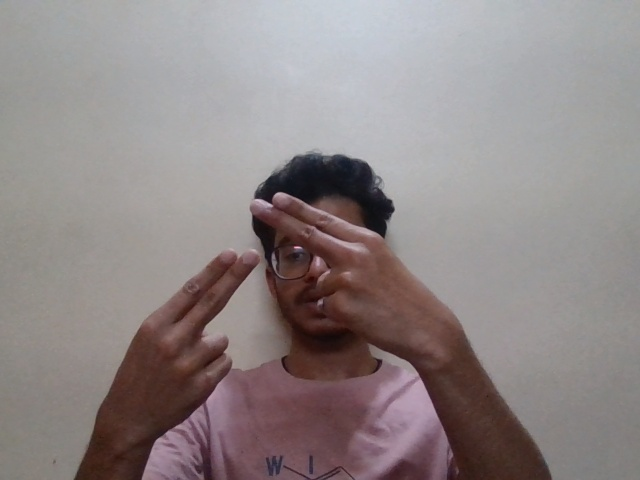my-name-is: (98, 185, 490, 392)
